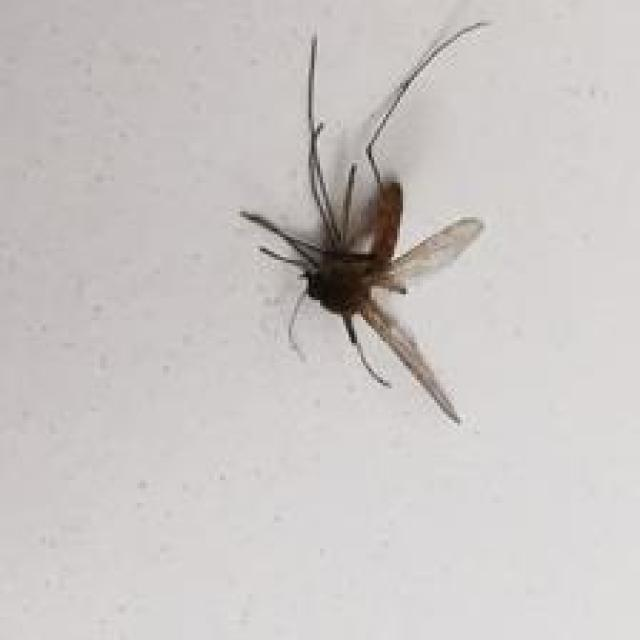Culex: (237, 17, 492, 426)
